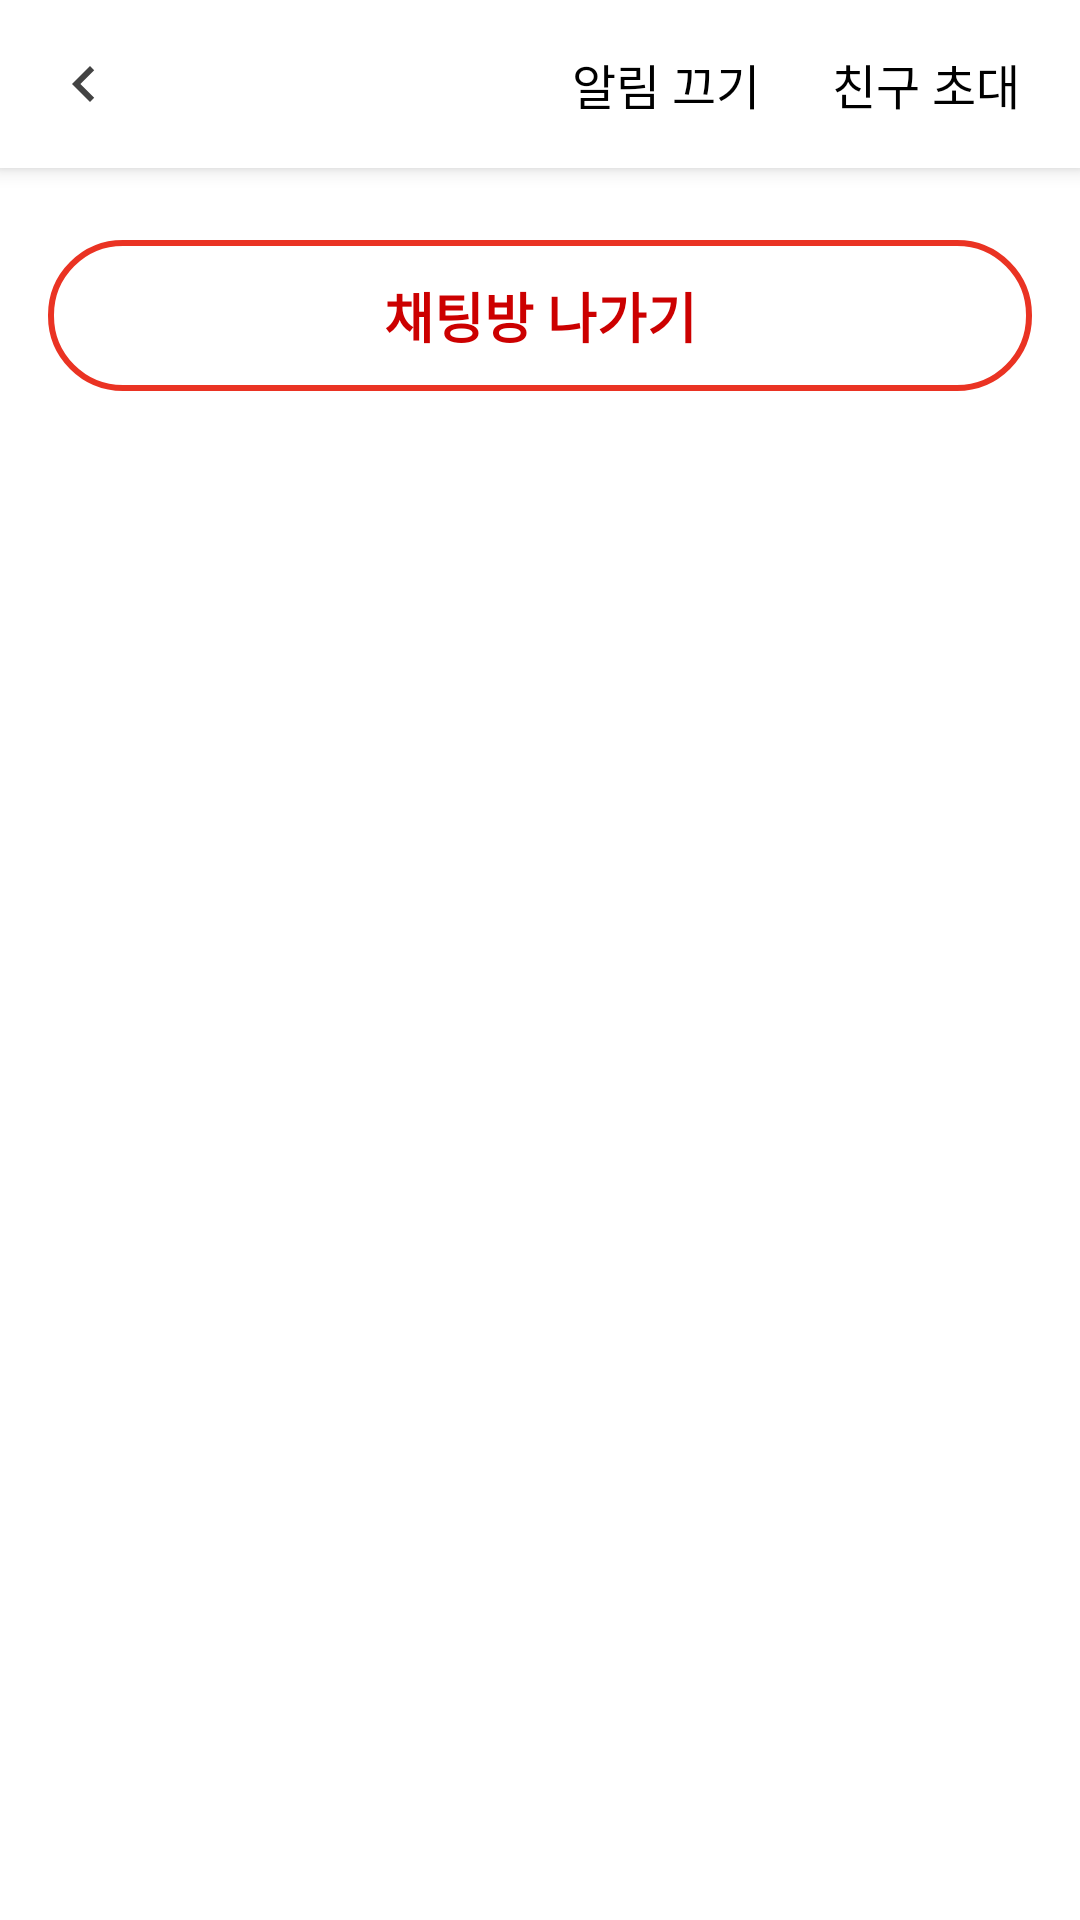

Icon bounding boxes for this 1080×1920 phone screenshot, format detection(x1, y1, x2, y2):
뒤로가기: detection(72, 66, 94, 102)
